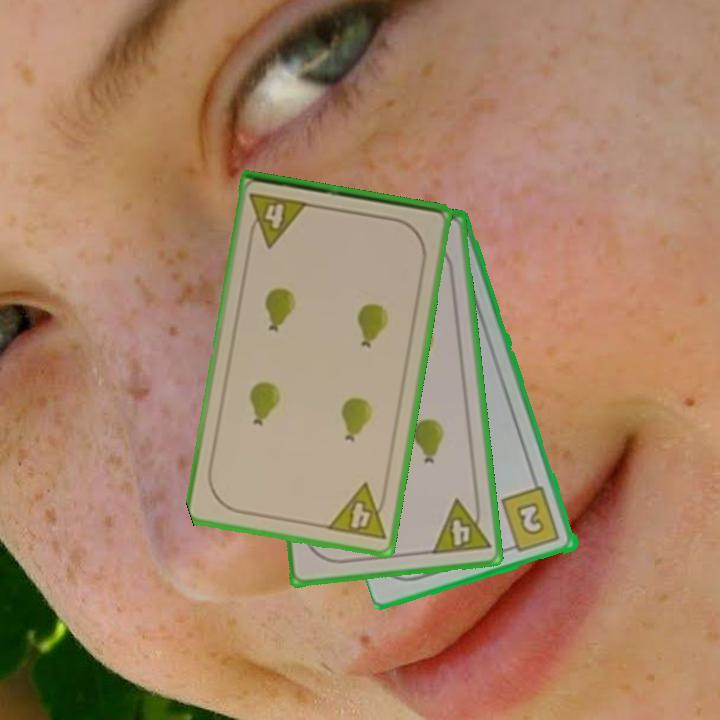2b: (498, 483, 563, 556)
4p: (323, 480, 391, 544), (428, 494, 493, 558), (245, 189, 311, 250)
